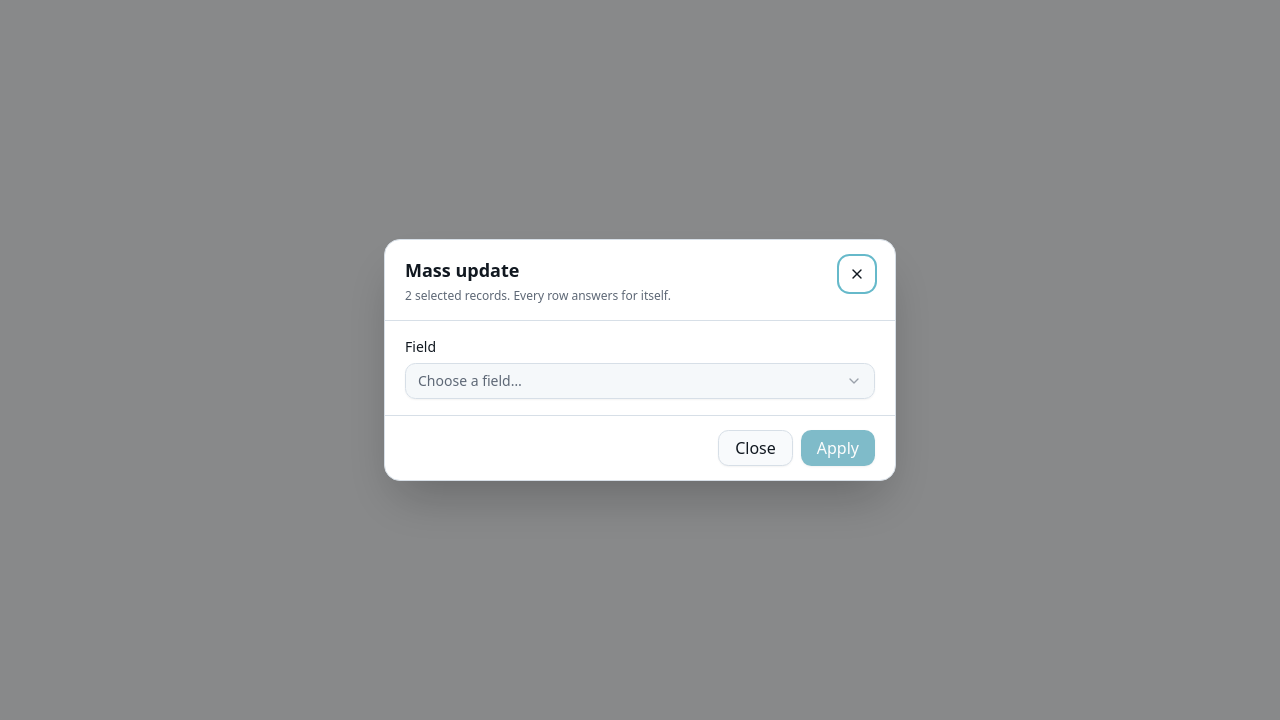
the mass-update dialog › offers writable scalars and never references
Click the dropdown named "Field to change": (470,380) [405,363,875,399]
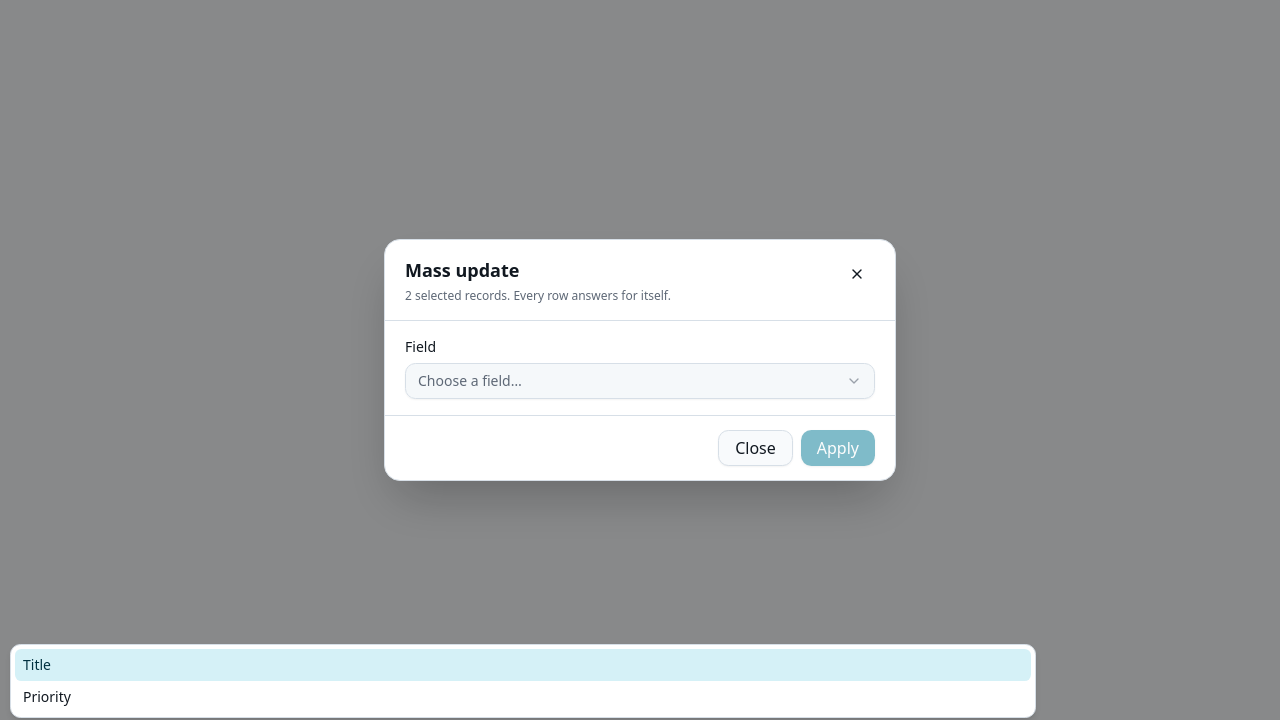
Expected: the options read "Title", "Priority", in this order, [15,649,1031,681]; [23,687,71,706]
